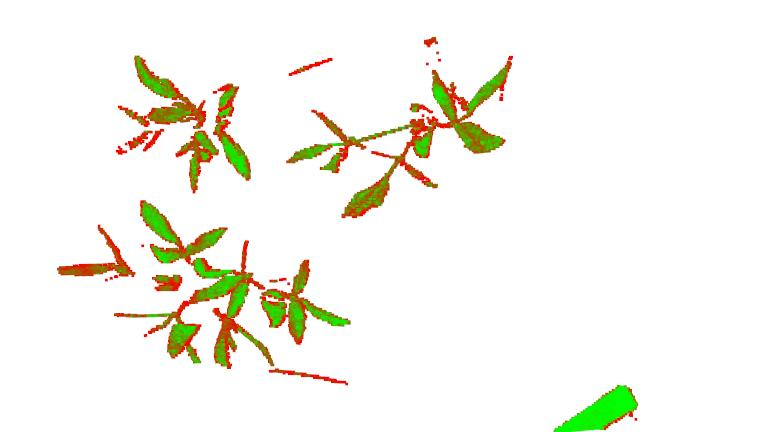mungbean: (51, 198, 352, 381), (287, 54, 517, 219), (110, 55, 253, 195)
